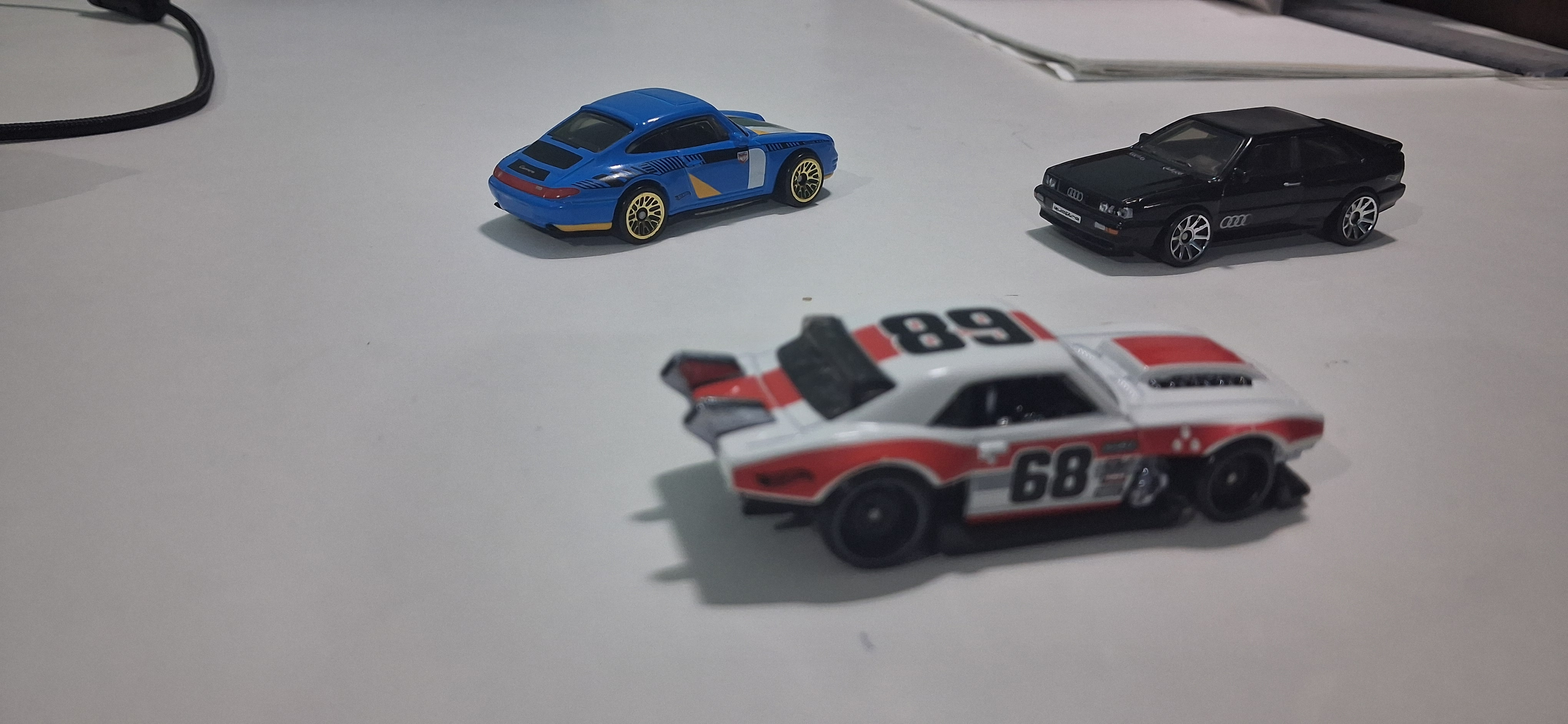Audi_Quattro: (1008, 94, 1460, 273)
Camaro: (634, 297, 1408, 591)
Porsche_Carrera: (459, 50, 879, 266)
